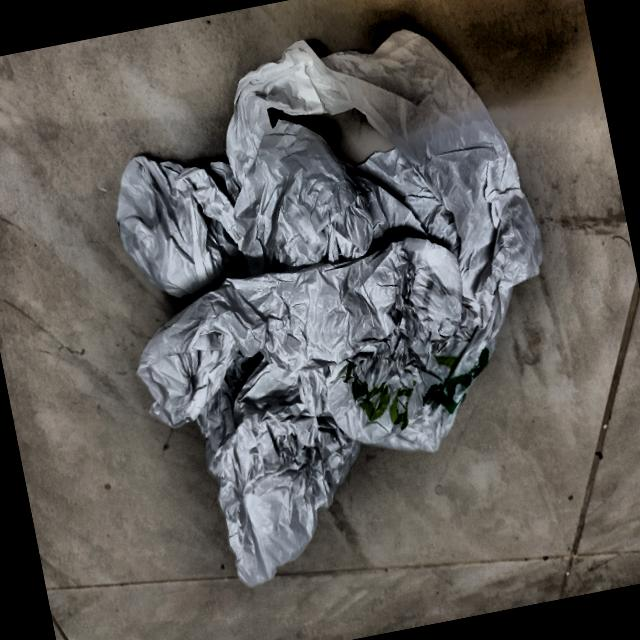plastic bag: (64, 0, 609, 610)
